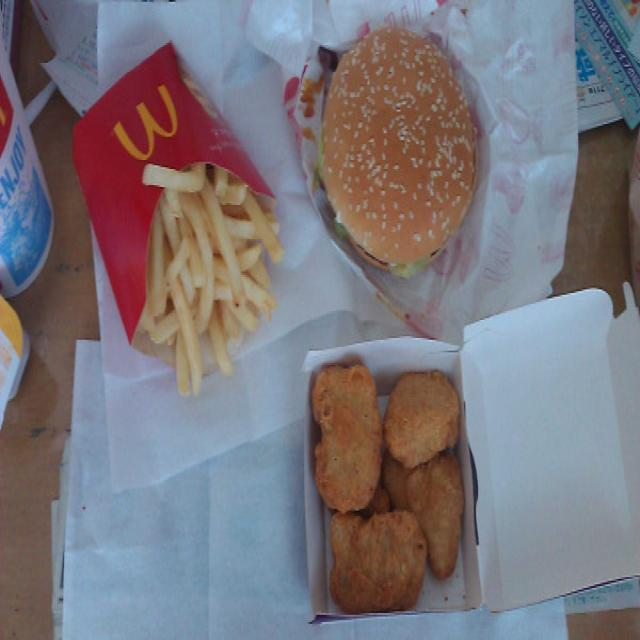French Fries: (130, 157, 282, 386)
Hamburger: (301, 22, 499, 280)
